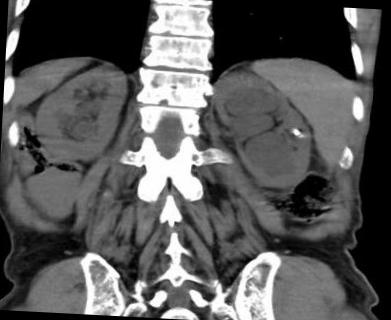Tas_Var: (291, 128, 301, 137), (299, 134, 305, 140)
